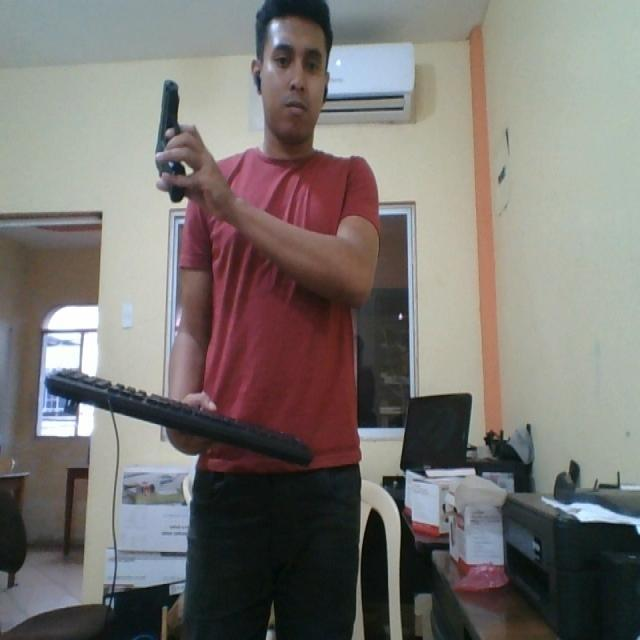weapon: (153, 78, 191, 206)
